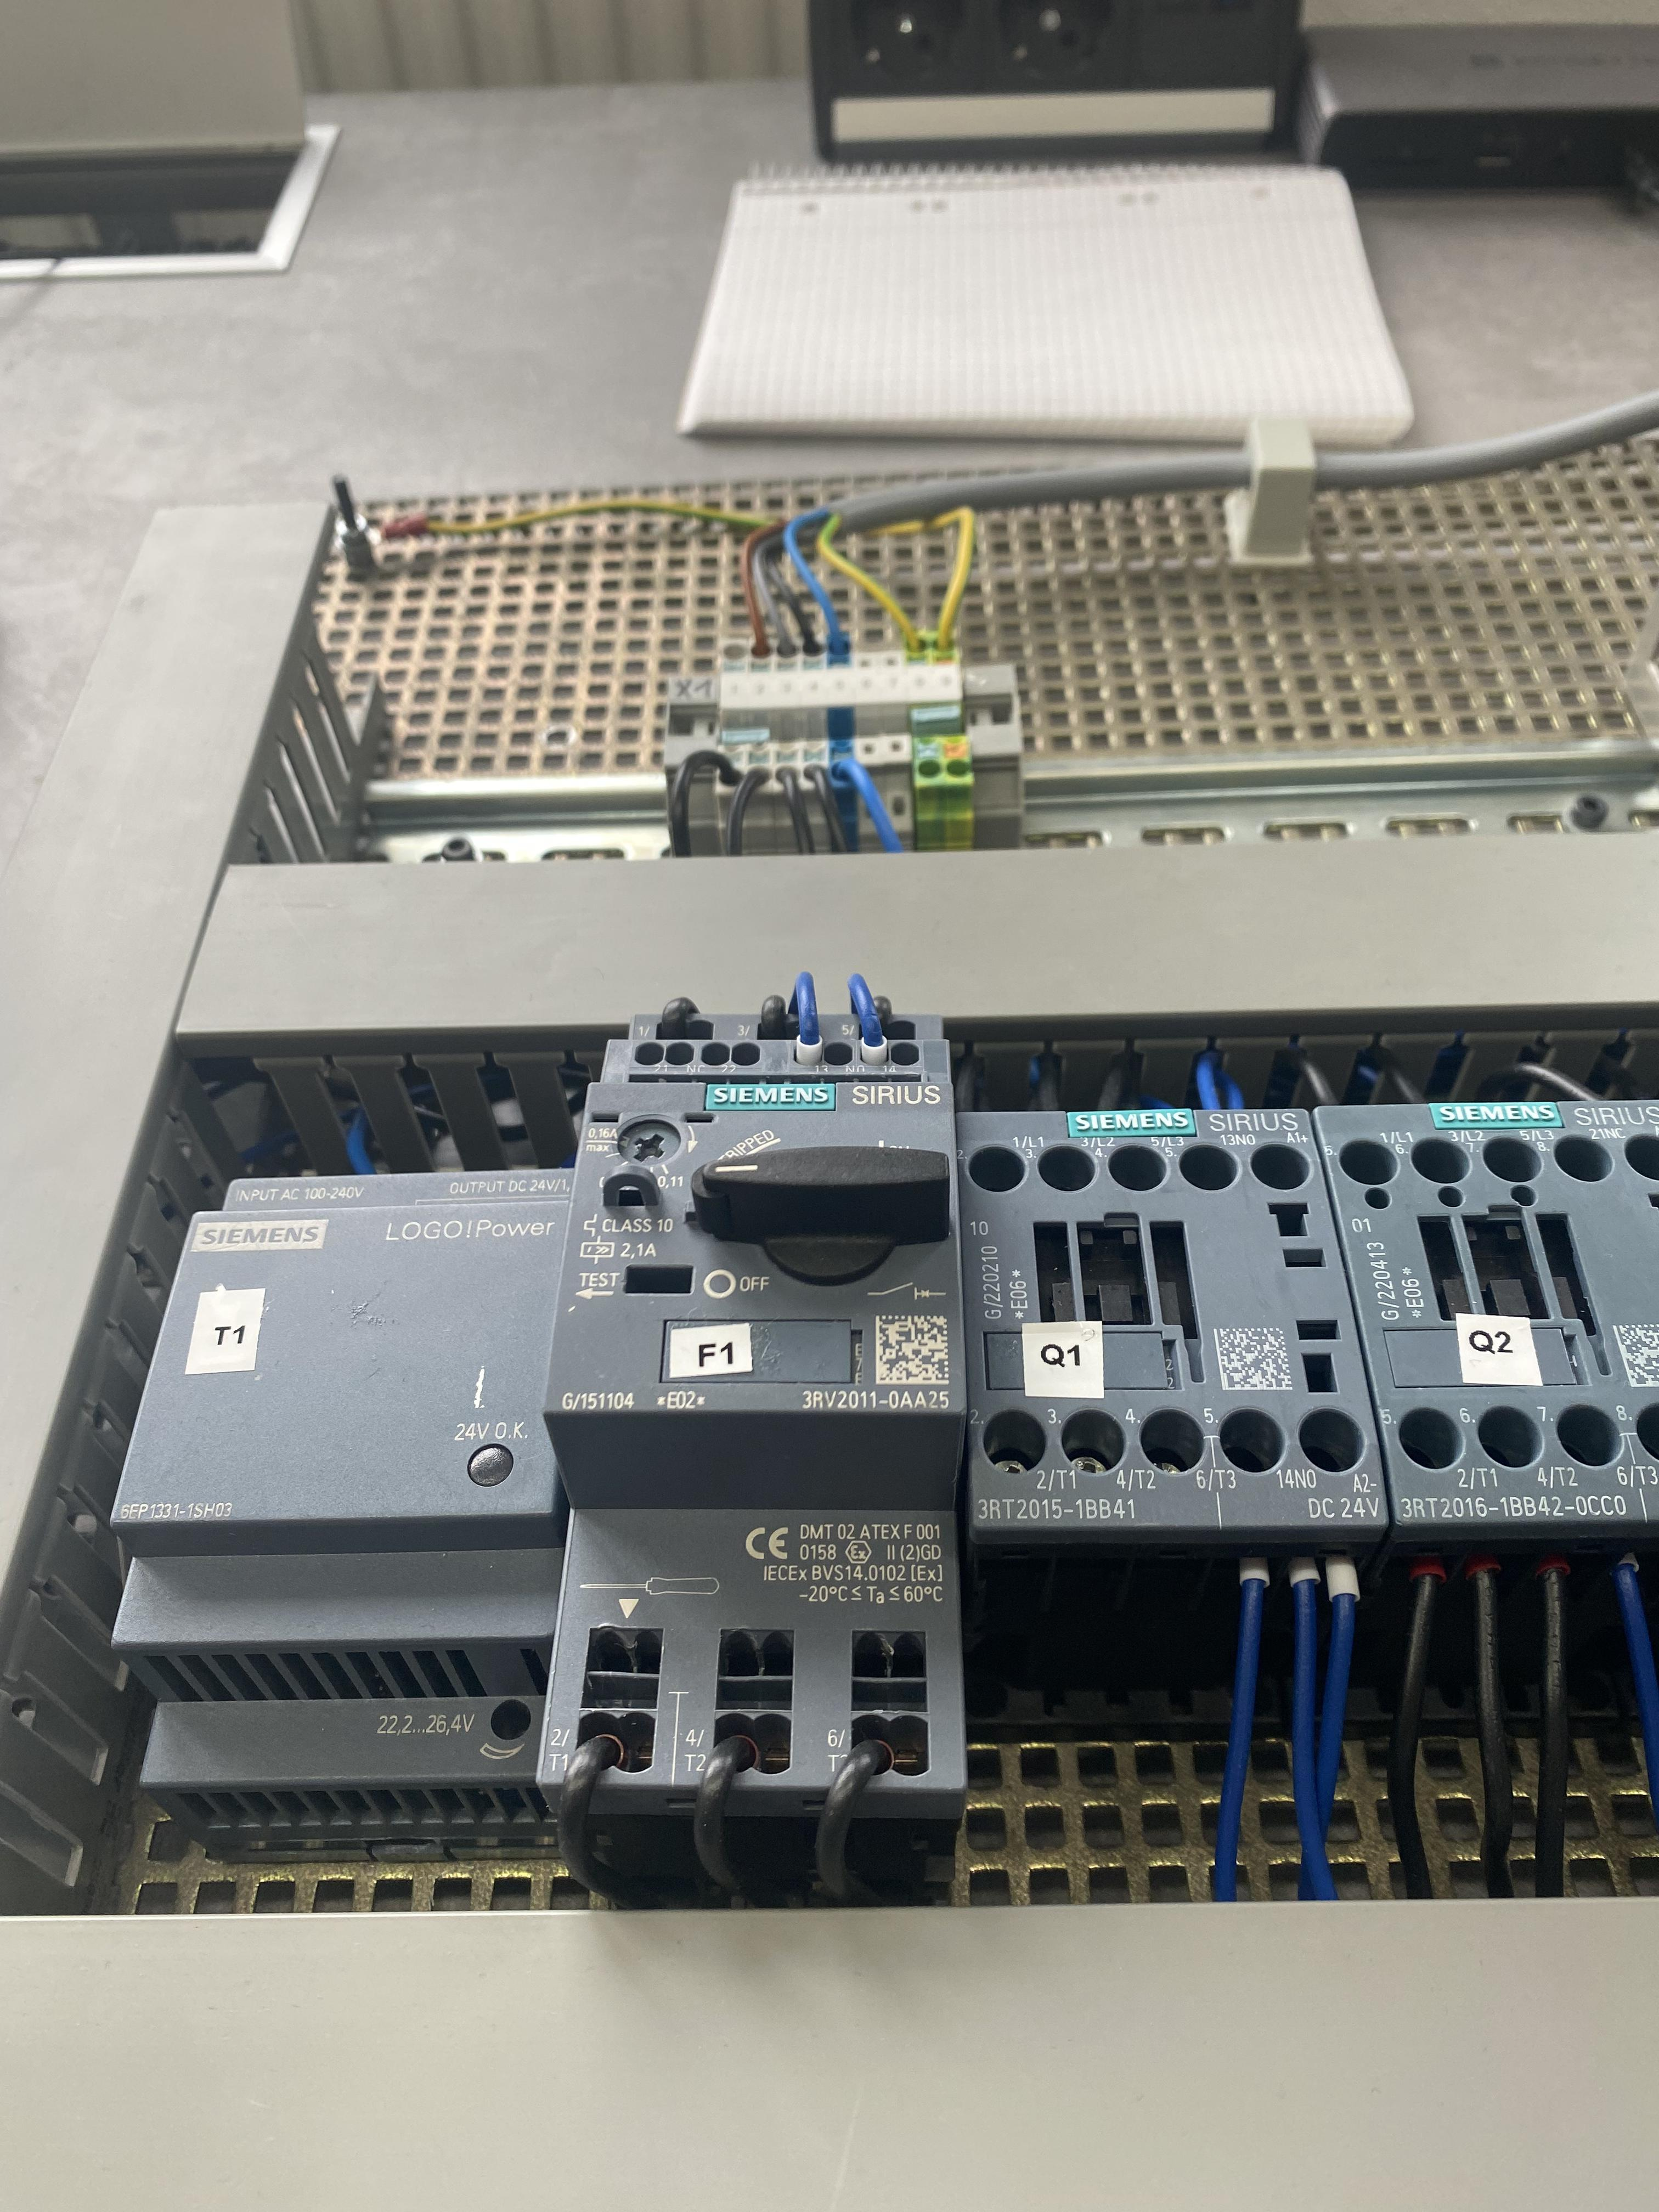F1: (535, 1014, 967, 1792)
Q: (955, 1108, 1389, 1533)
Q2: (1314, 1099, 1659, 1527)
T1: (113, 1169, 570, 1780)
X1: (660, 632, 1026, 815)
